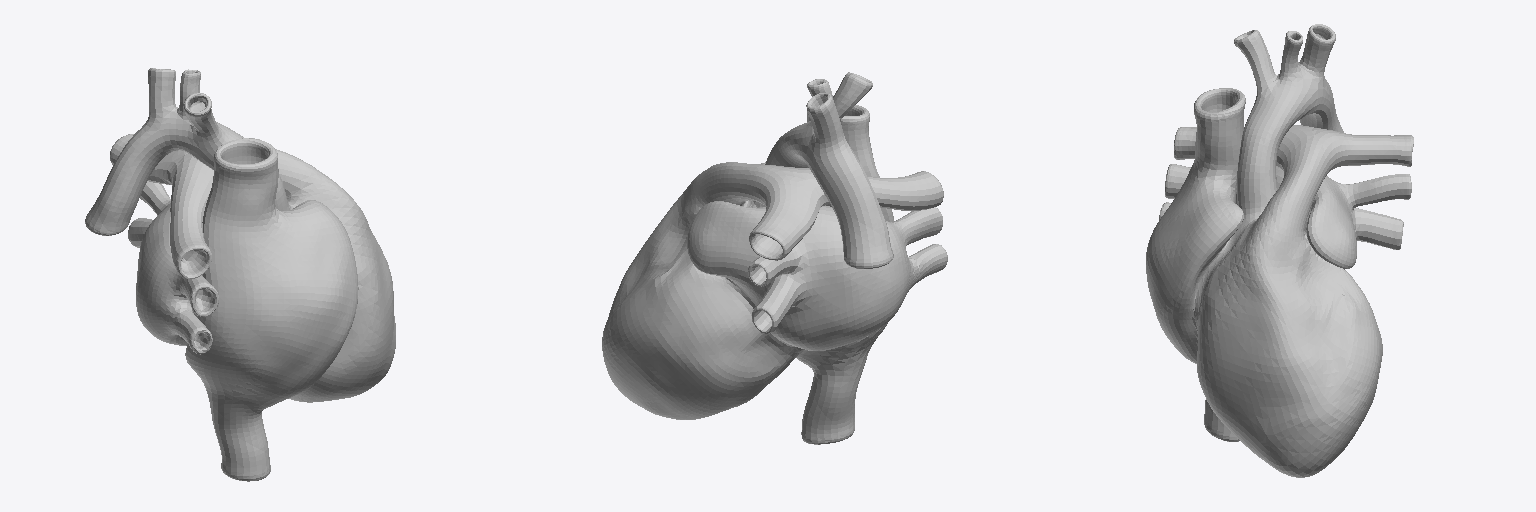
3 renders of one model, left to right at view 1: azimuth 30°, elevation 25°; view 2: azimuth 150°, elevation 25°; view 3: azimuth 270°, elevation 25°, orthographic.
Visible parts, largest first — view 1: HEART_PRO; view 2: HEART_PRO; view 3: HEART_PRO.
Part boxes in pixels (x1,y1,x2,y2): HEART_PRO: (85,68,395,481); HEART_PRO: (602,72,947,444); HEART_PRO: (1146,24,1413,477).
Size of the model in its own units: 644 by 824 by 517.